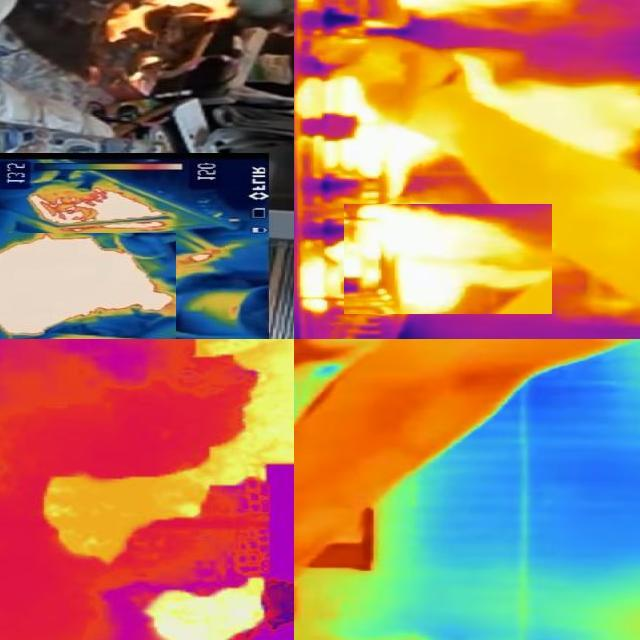fire: (1, 340, 295, 640), (451, 42, 640, 176), (344, 205, 552, 315), (1, 234, 176, 340), (198, 339, 291, 490), (337, 80, 459, 183), (23, 180, 184, 232), (148, 578, 277, 640), (360, 1, 577, 19)
